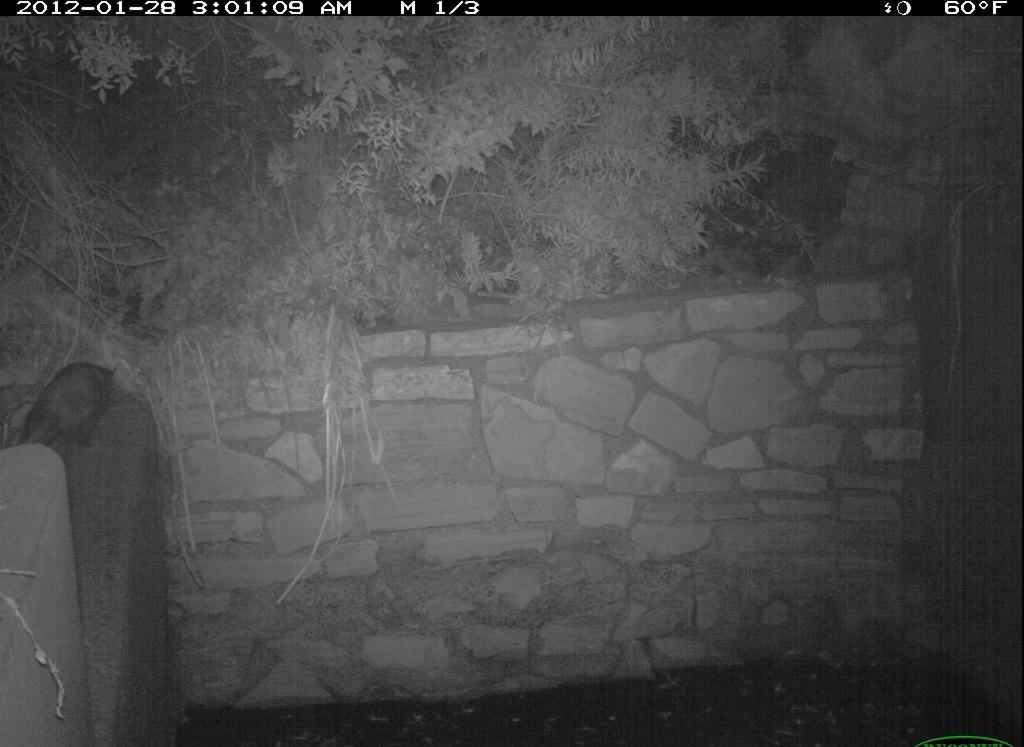opossum: (12, 333, 140, 464)
